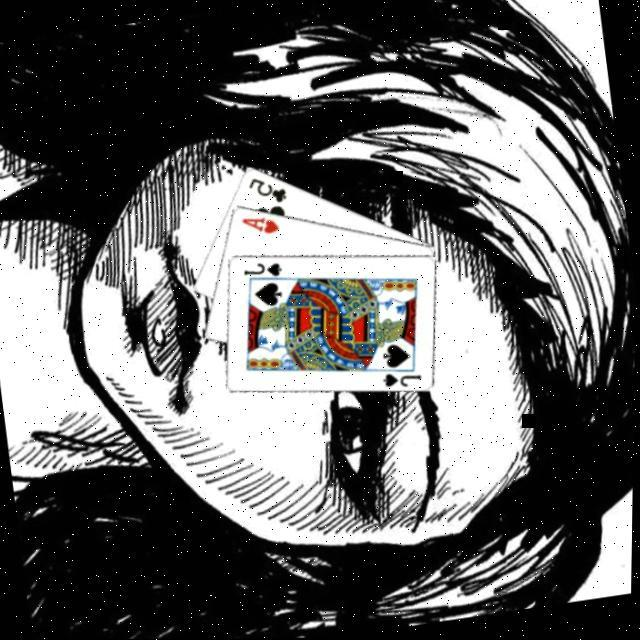5C: (248, 172, 293, 210)
AH: (240, 211, 286, 241)
JS: (382, 366, 428, 394), (242, 258, 288, 284)
